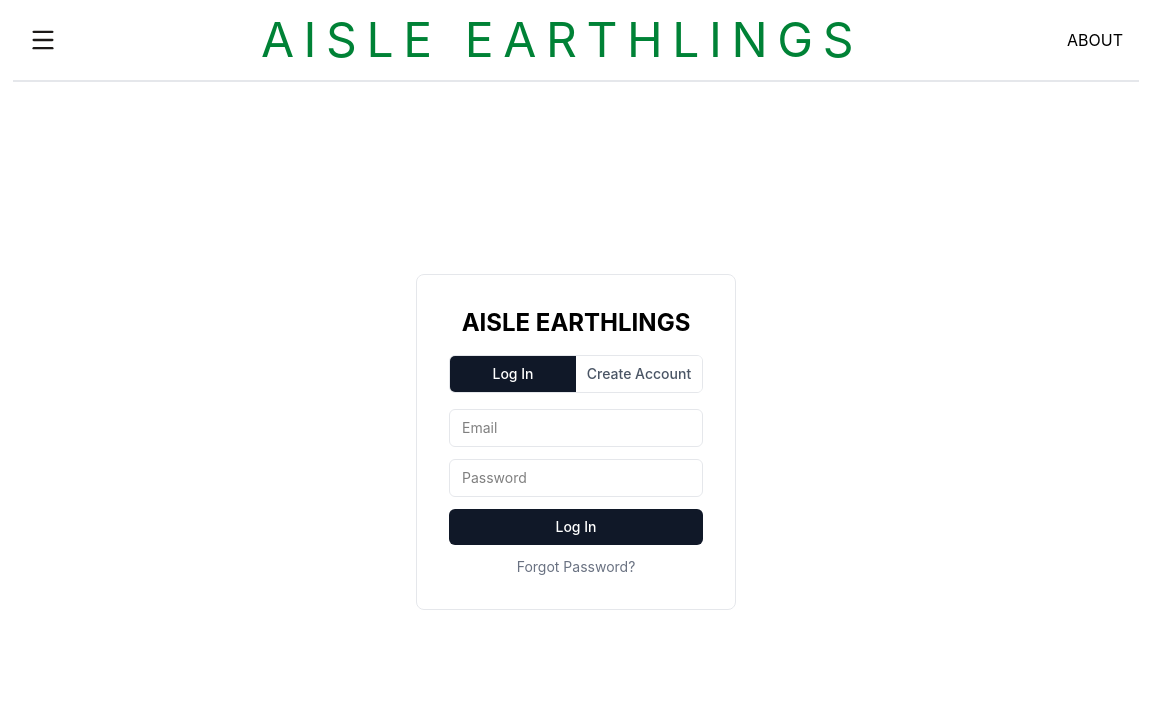
Test case: Authentication › shows error with an incorrect password
The image size is (1152, 720).
Type "test@t.com" into the field with test id "email-input" at (576, 428), box x1=449 y1=409 x2=703 y2=447
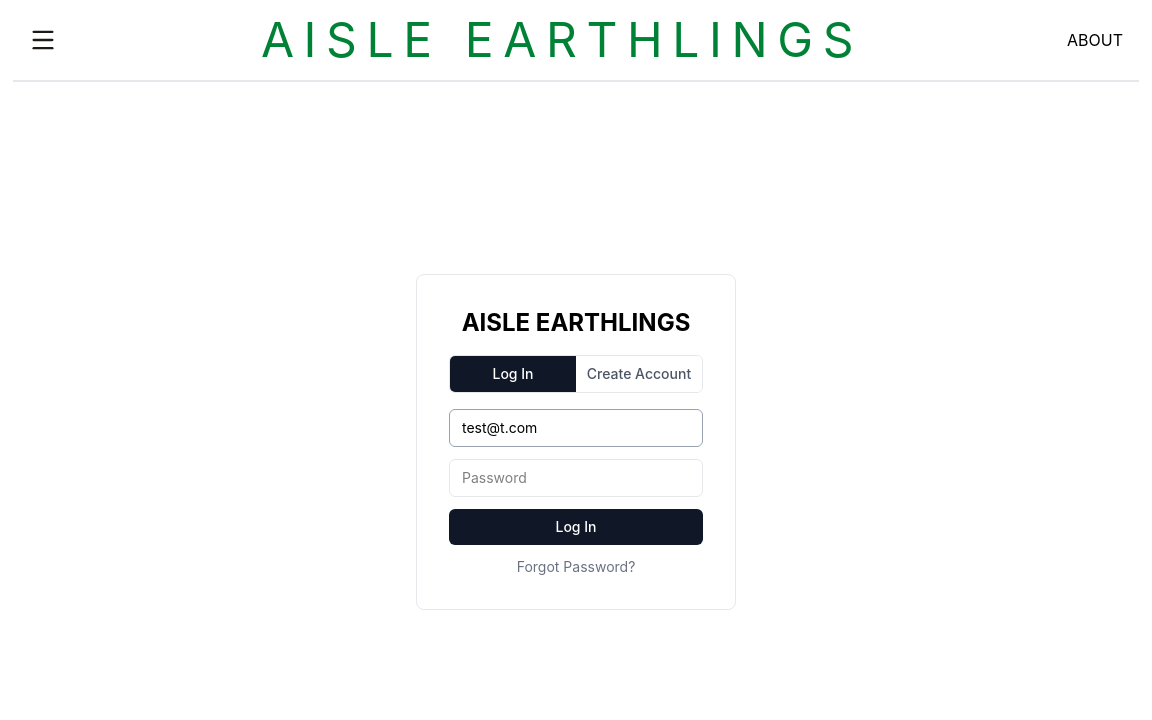
Type "wrongpassword" into the password field with test id "password-input" at (576, 478), box x1=449 y1=459 x2=703 y2=497
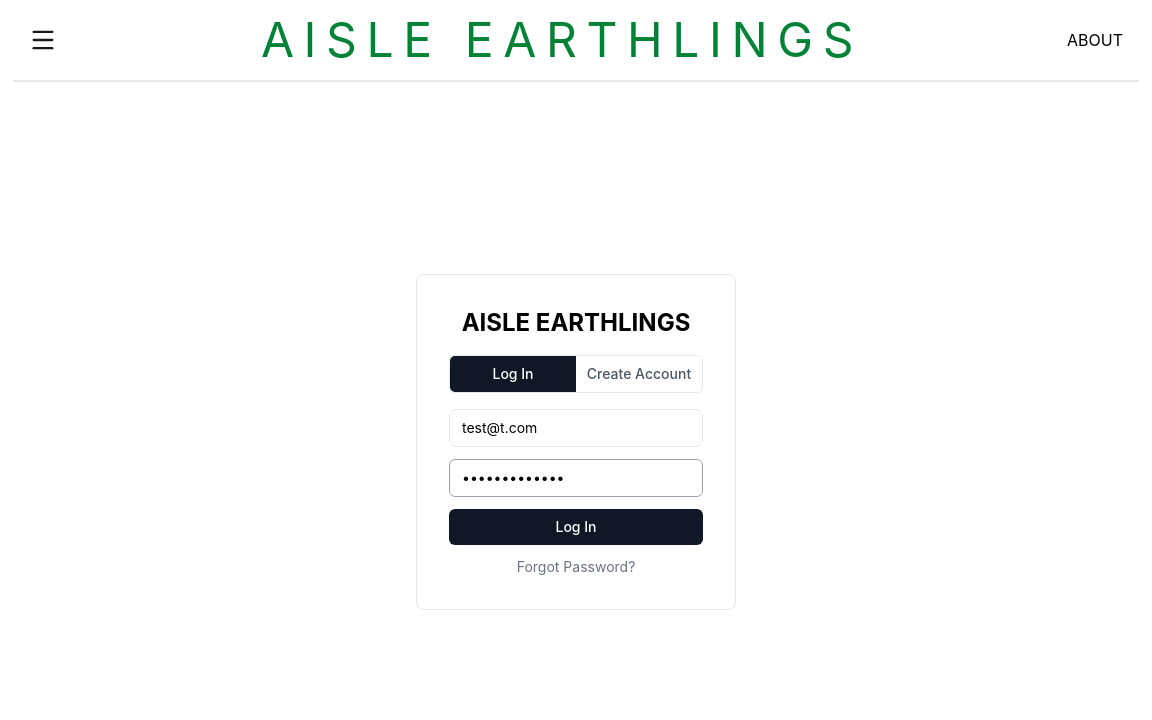
Click the button with test id "submit-btn" at (576, 527), box x1=449 y1=509 x2=703 y2=545
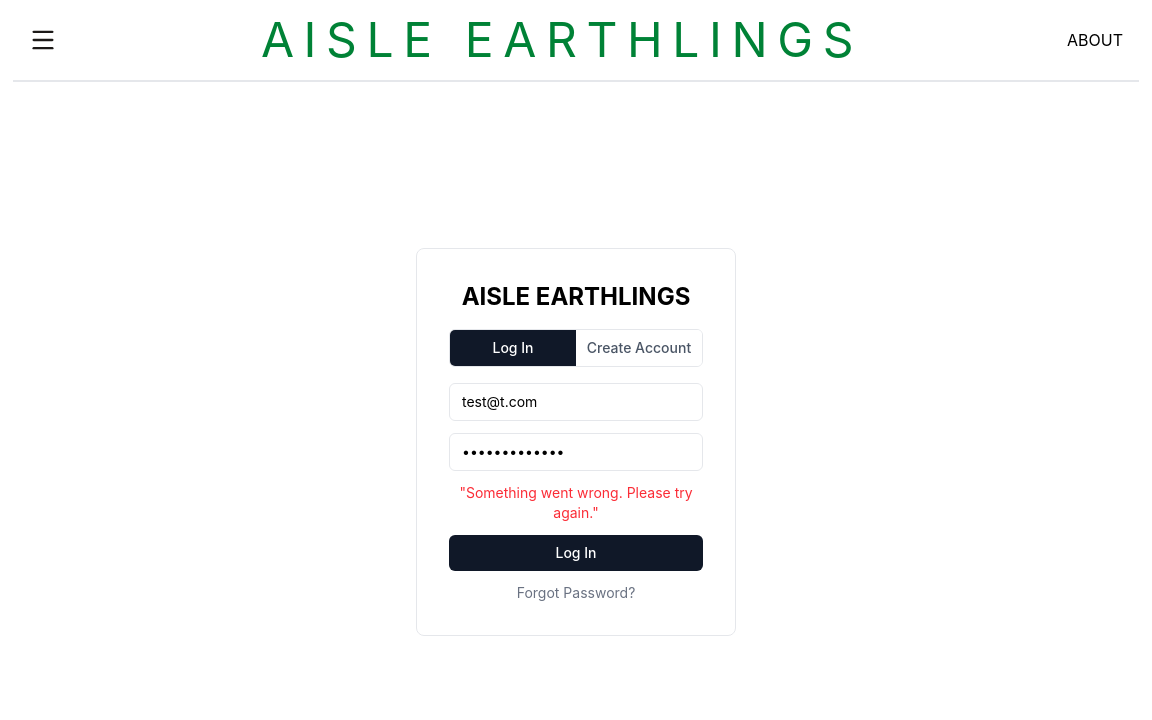
Result: the text "\"Something went wrong. Please try again.\"" is shown at x1=449 y1=483 x2=703 y2=523
